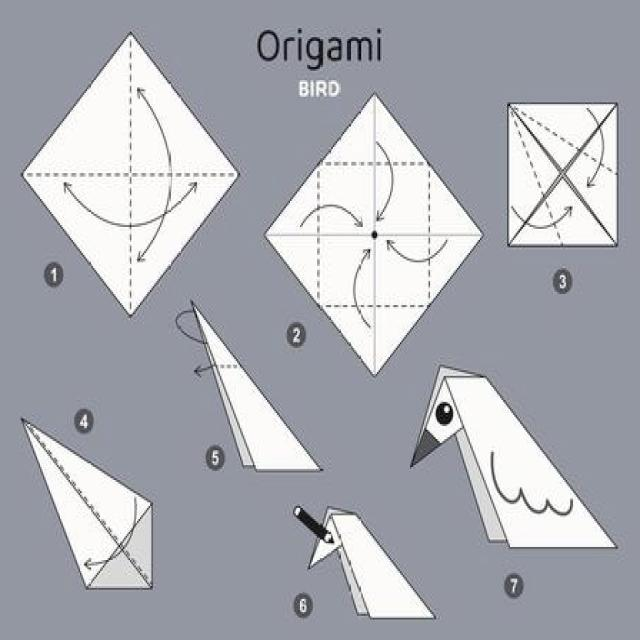arrow: (63, 183, 197, 228), (138, 88, 172, 262), (138, 183, 197, 262), (85, 499, 137, 569), (376, 142, 394, 221), (353, 250, 371, 327), (388, 240, 448, 262), (300, 205, 362, 226), (175, 309, 205, 344), (528, 205, 572, 228), (588, 129, 604, 187), (195, 365, 212, 377)
fold-line: (20, 417, 155, 589), (508, 105, 565, 247), (510, 105, 618, 178), (126, 32, 135, 316), (371, 90, 379, 380), (22, 172, 241, 182), (263, 232, 486, 240), (314, 164, 322, 301), (316, 158, 428, 167), (426, 168, 433, 309), (318, 302, 426, 311), (212, 361, 242, 372)
